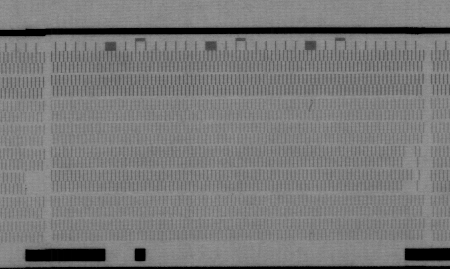Broken hole: (22, 171, 46, 197), (402, 169, 423, 192), (402, 145, 419, 168)
Oblique printing: (305, 98, 317, 113)
